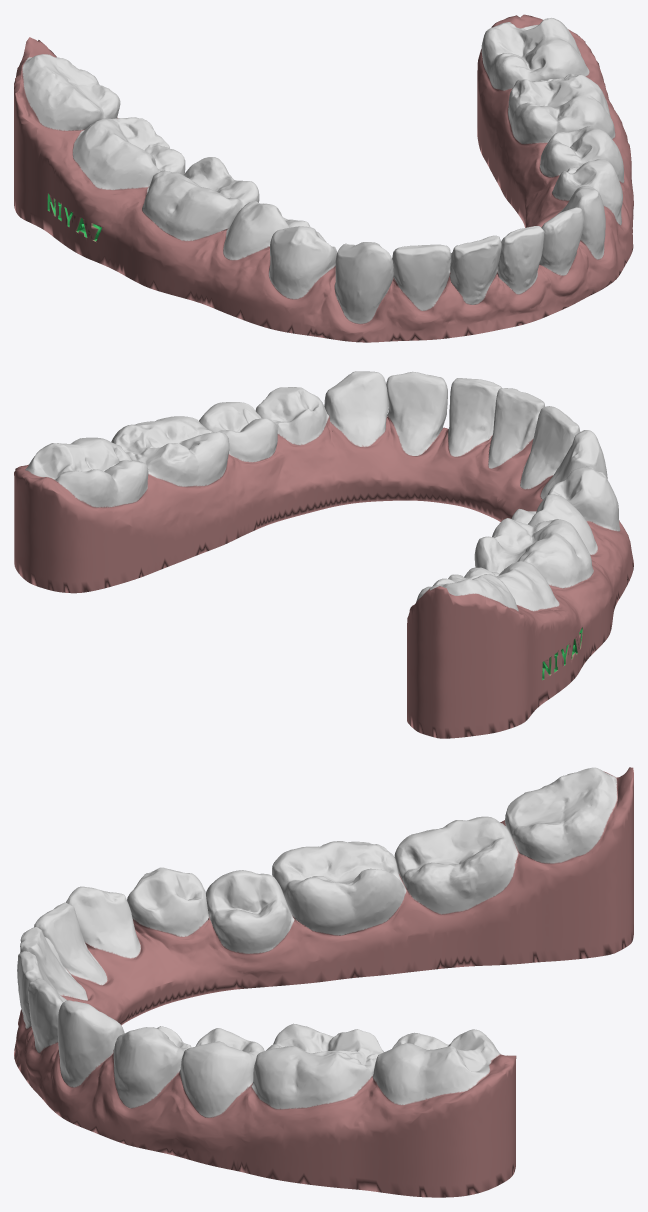
File: Niya Priority Lower jaw - 07 - Model.glb
3 views of the same model, one above another, from view 1: azimuth 30°, elevation 25°; view 2: azimuth 150°, elevation 25°; view 3: azimuth 270°, elevation 25° (orthographic). The views are drawn at different scales.
Visible parts, largest first — view 1: Niya Priority Lower jaw - 07 - Model; view 2: Niya Priority Lower jaw - 07 - Model; view 3: Niya Priority Lower jaw - 07 - Model.
Boxes of the visible parts, x1=… form: Niya Priority Lower jaw - 07 - Model: x1=14, y1=14, x2=633, y2=342; Niya Priority Lower jaw - 07 - Model: x1=14, y1=371, x2=633, y2=738; Niya Priority Lower jaw - 07 - Model: x1=14, y1=767, x2=633, y2=1197.
Size of the model in its own units: 62.72 by 16.53 by 56.55.
